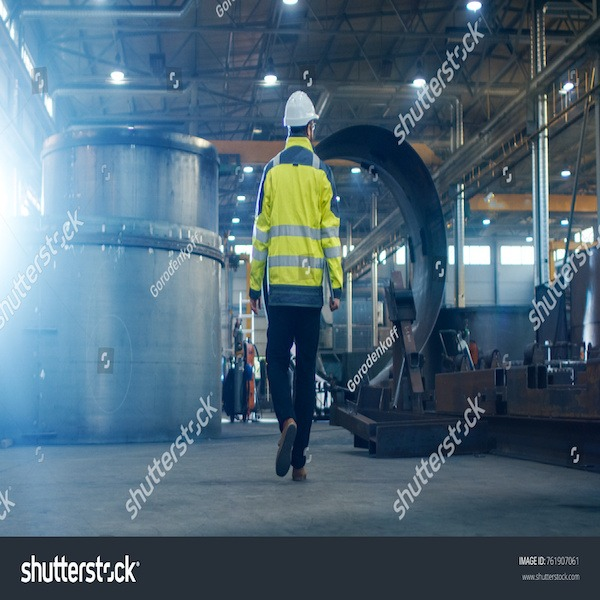helmet: (283, 86, 318, 130)
vest: (254, 145, 343, 304)
